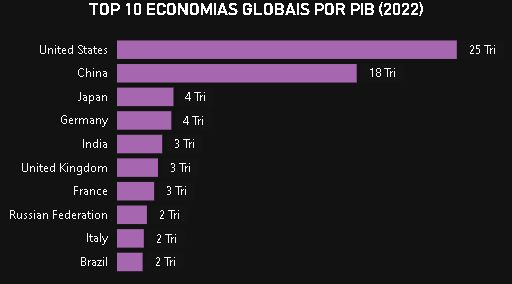

The dashboard page shown, as its layout file describes it:
{"tool":"powerbi","page":{"name":"Página 1","canvas":[1280,720],"ordinal":0},"visuals":[{"type":"clusteredBarChart","title":"TOP 10 ECONOMIAS  GLOBAIS POR PIB (2022)","fields":{"Y":["Sum(gdp_final.gdp)"],"Category":["gdp_final.country_name"]},"box":[382.3,185.5,515.4,287.4],"z":0}]}

Visuals, with their boxes in screenshot pixels (x1, y1, x2, y2), scaled from the page's 1280x720 canvas onto the 512x284 screenshot:
"TOP 10 ECONOMIAS  GLOBAIS POR PIB (2022)" clusteredBarChart: Rect(153, 73, 359, 187)
